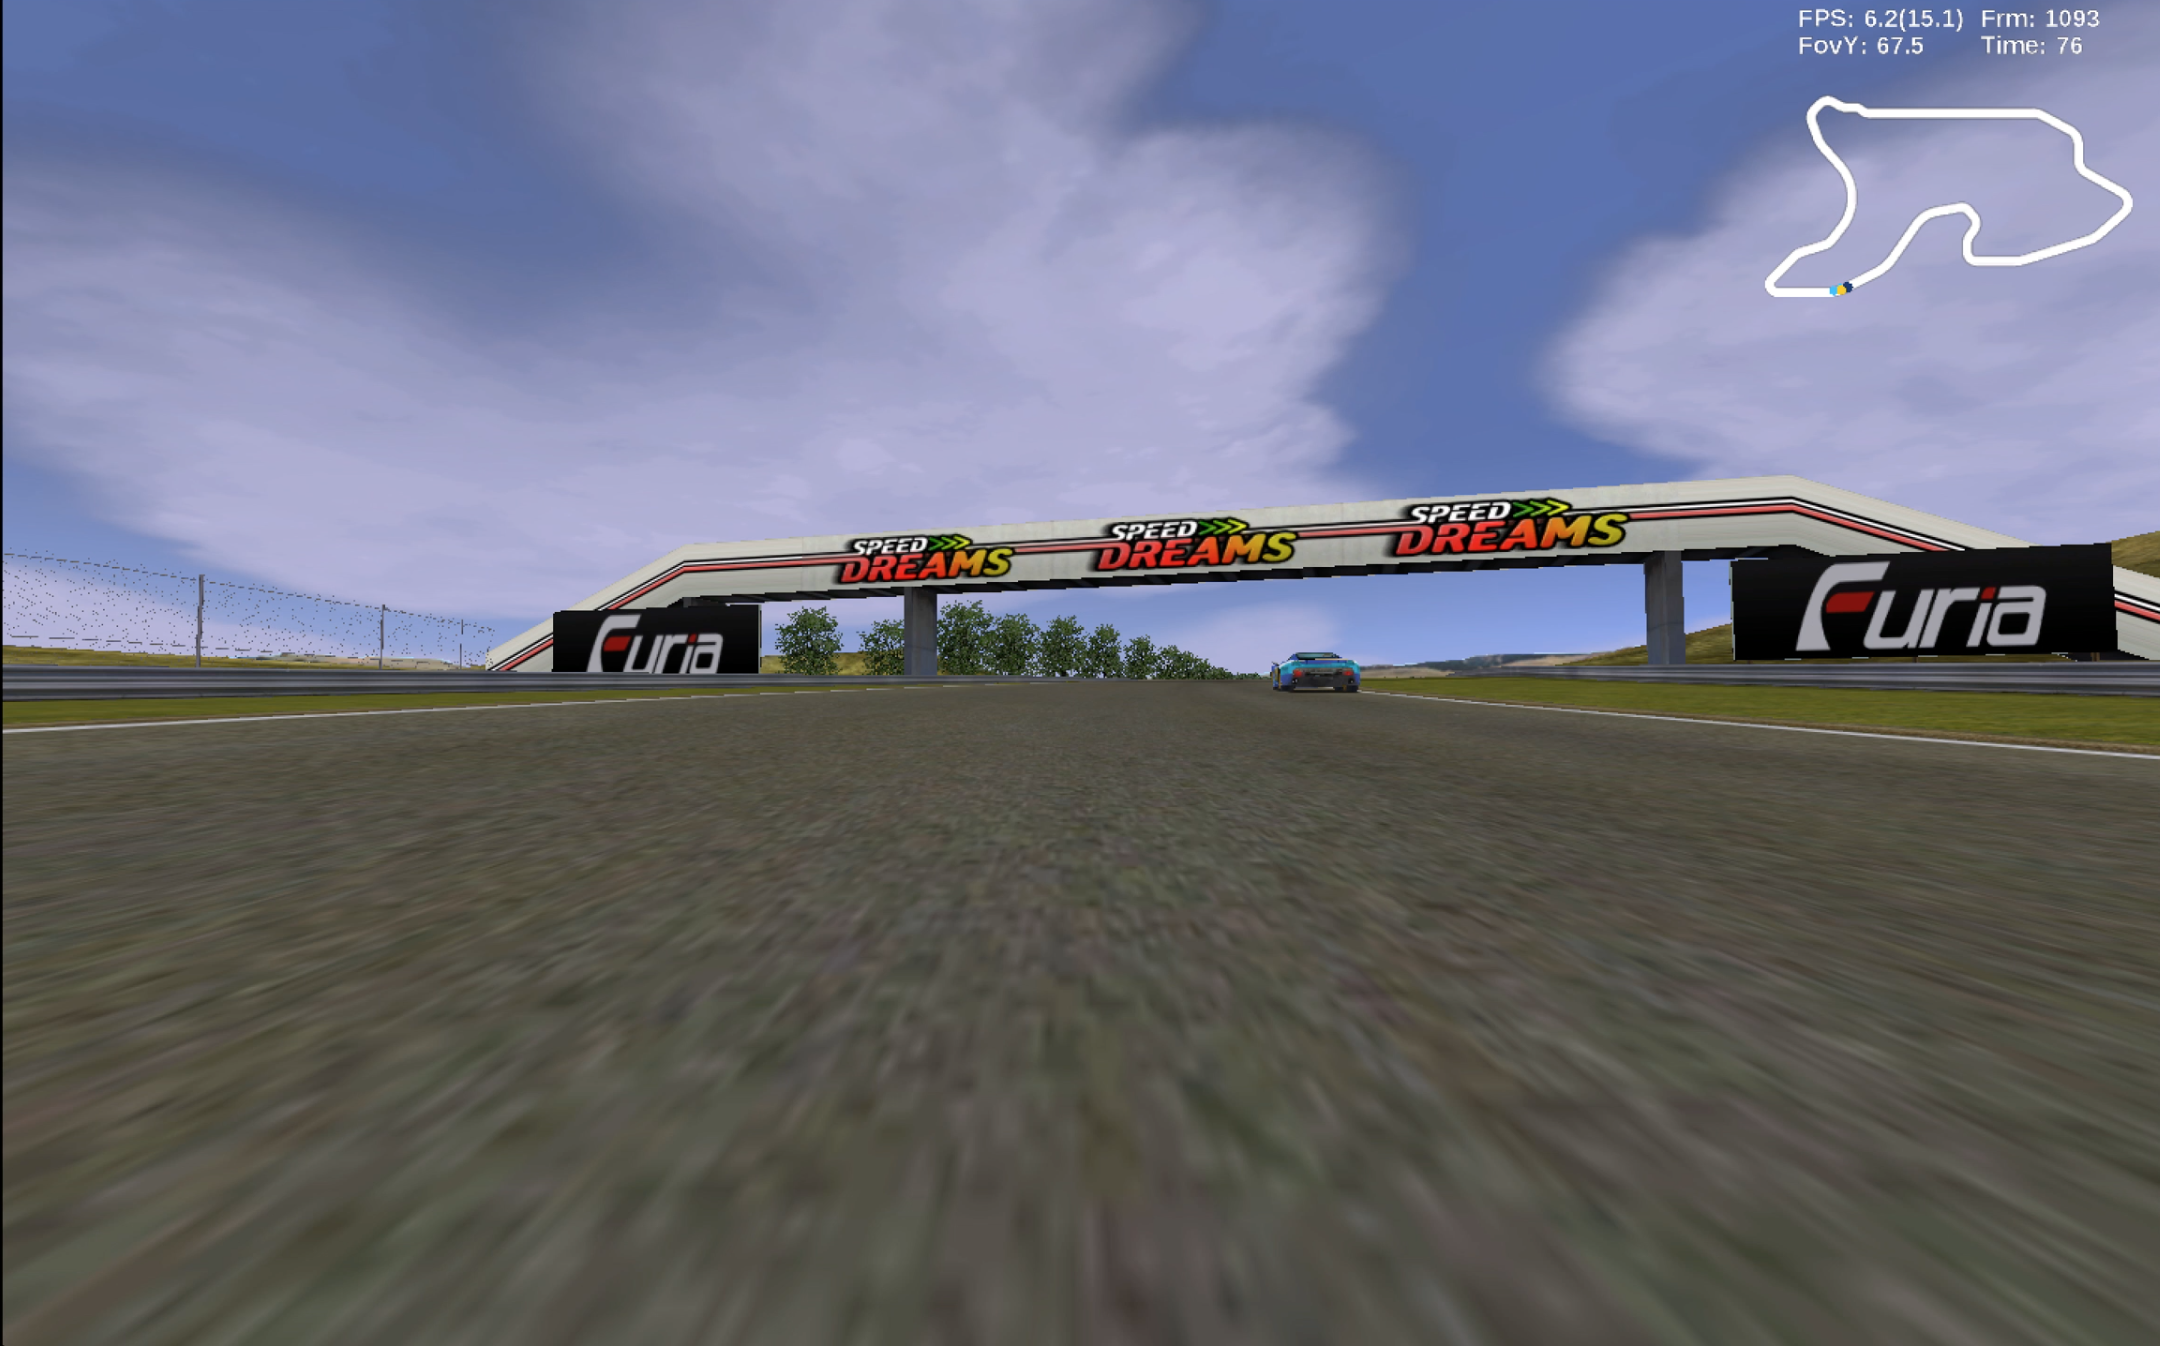Lynx220: (1272, 651, 1363, 695)
